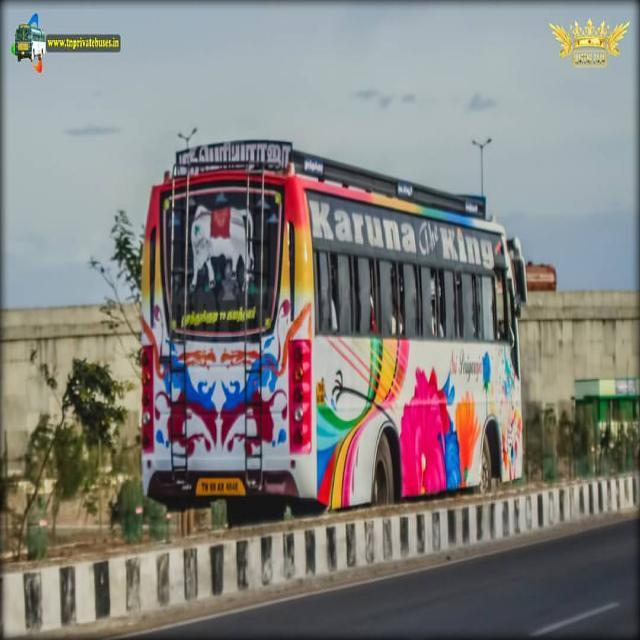Bus: (136, 134, 532, 510)
